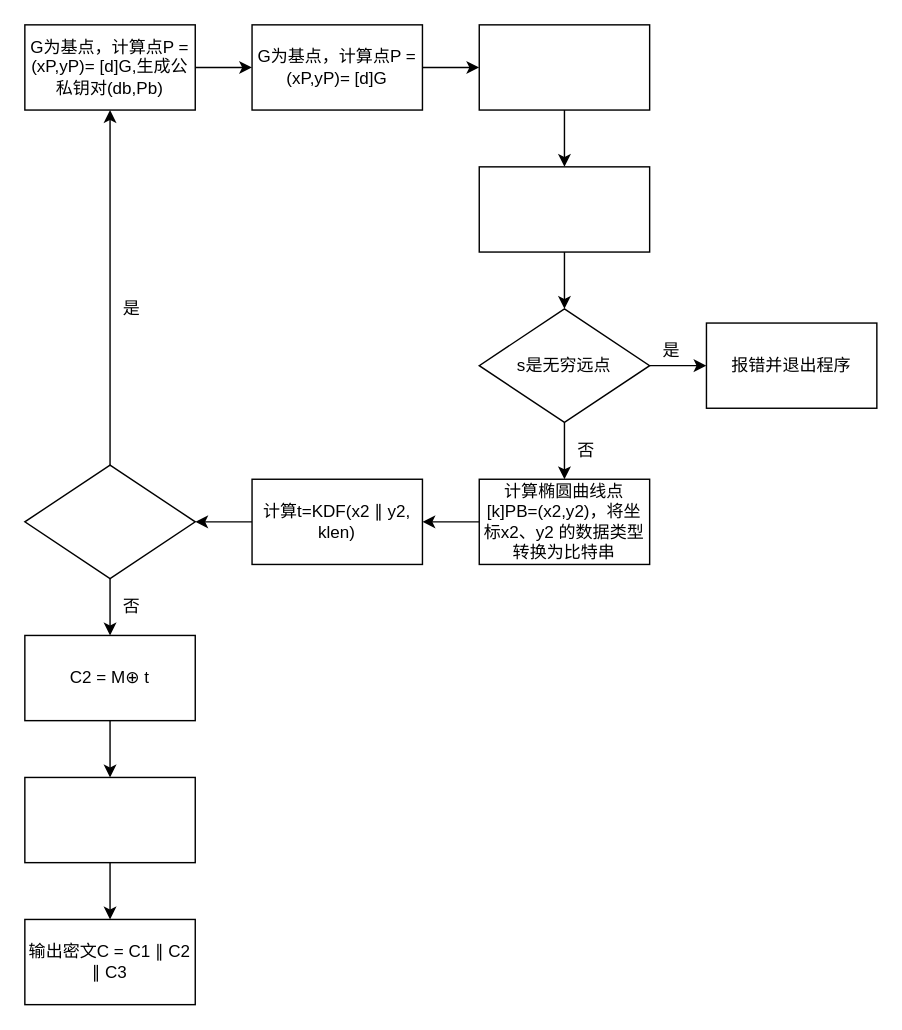
This 902x1030 diagram has some shape labels left out. The box of each missing label's shape, as (x1, y1, x2, y2) in pixels:
t是否为全0比特串: (23, 464, 195, 579)
计算C3 = Hash(x2 ∥ M ∥ y2): (23, 776, 195, 863)
计算椭圆曲线点C1=[k]G=(x1,y1)，将C1的数据类 型转换为比特串: (478, 23, 650, 110)
计算椭圆曲线点S=[h]PB: (478, 165, 650, 252)
